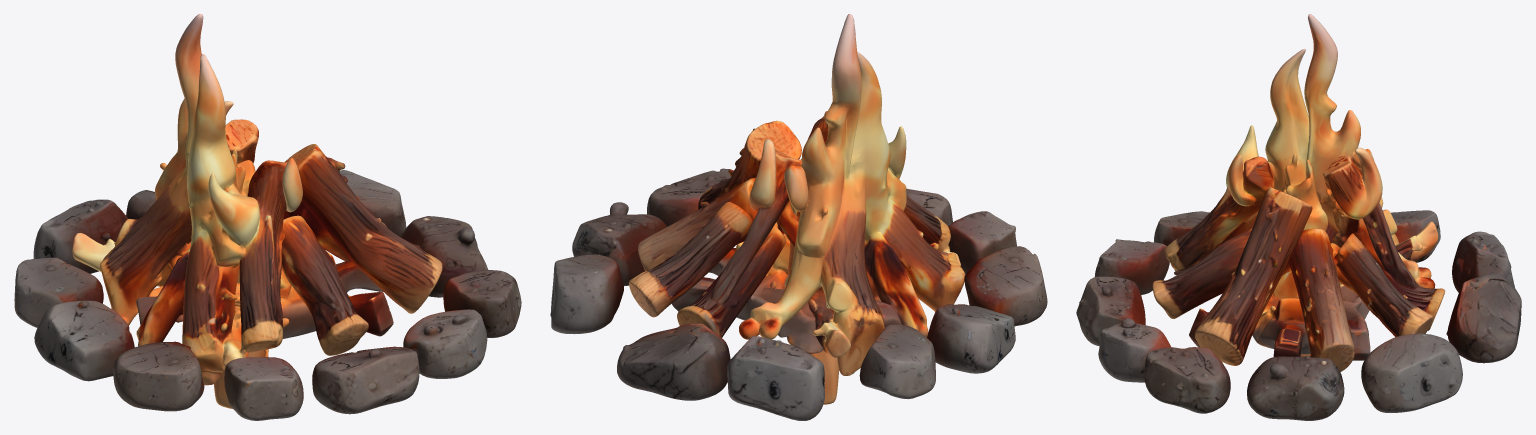
Rendered from prop-campfire.glb.
The picture shows the model from 3 angles, left to right: view 1: azimuth 30°, elevation 25°; view 2: azimuth 150°, elevation 25°; view 3: azimuth 270°, elevation 25°; orthographic projection. The views are drawn at different scales.
Parts seen in each view (by area): view 1: tripo_node_cf7a34ad-673a-484d-9459-36c82cd4dc37; view 2: tripo_node_cf7a34ad-673a-484d-9459-36c82cd4dc37; view 3: tripo_node_cf7a34ad-673a-484d-9459-36c82cd4dc37.
Part boxes in pixels (x1,y1,x2,y2): tripo_node_cf7a34ad-673a-484d-9459-36c82cd4dc37: (14, 14, 521, 420); tripo_node_cf7a34ad-673a-484d-9459-36c82cd4dc37: (550, 14, 1047, 420); tripo_node_cf7a34ad-673a-484d-9459-36c82cd4dc37: (1076, 14, 1521, 420).
Bounding box in the file's own units: 1.11 × 1 × 1.12.
Materials: 1 (1 with a texture image).
